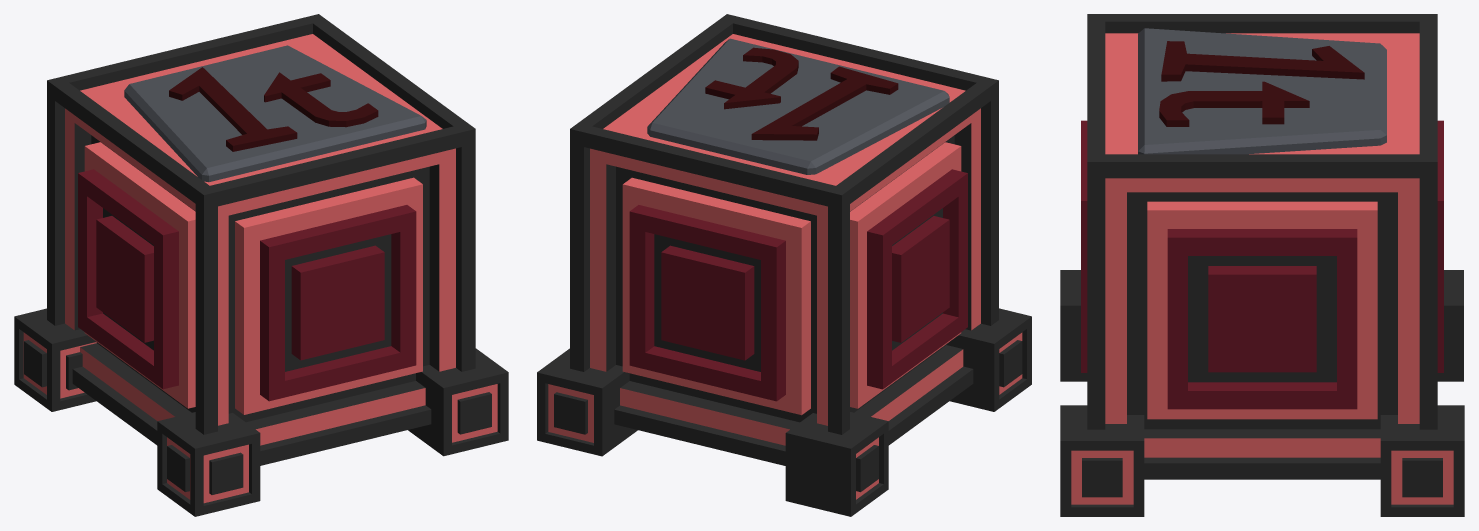
Rendered from HeavyBlock1.fbx.
3 views of the same model, side by side, from view 1: azimuth 30°, elevation 25°; view 2: azimuth 150°, elevation 25°; view 3: azimuth 270°, elevation 25° (orthographic). The views are drawn at different scales.
Parts seen in each view (by area): view 1: Mesh; view 2: Mesh; view 3: Mesh.
Boxes of the visible parts, x1,y1,x2,y2 form: Mesh: [14, 14, 508, 516]; Mesh: [537, 14, 1031, 516]; Mesh: [1060, 14, 1464, 516].
Bounding box in the file's own units: 0.8919 × 0.8563 × 0.8919.
